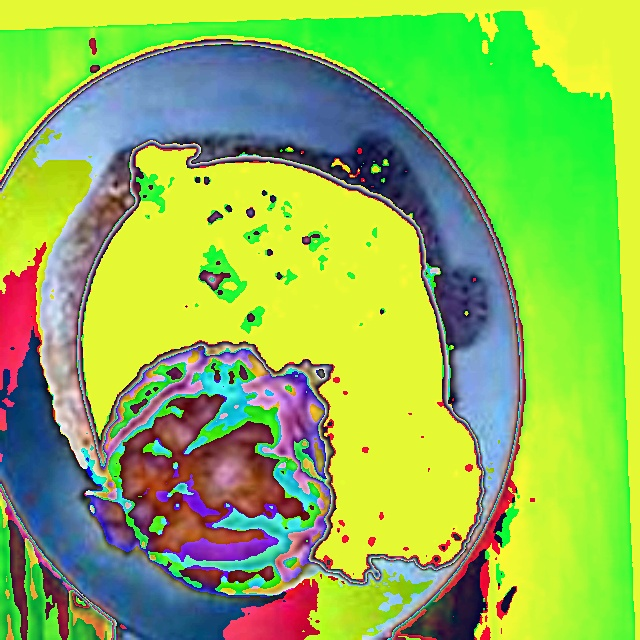background: (80, 140, 487, 597)
